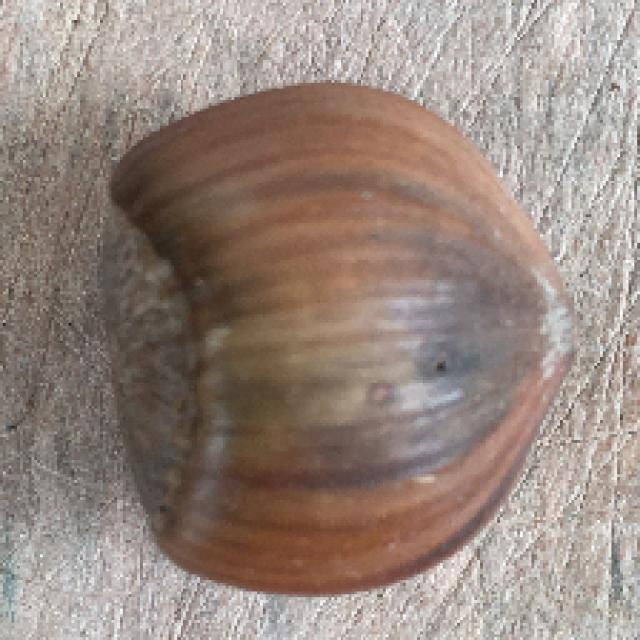DamagedHazelnut: (97, 88, 587, 596)
